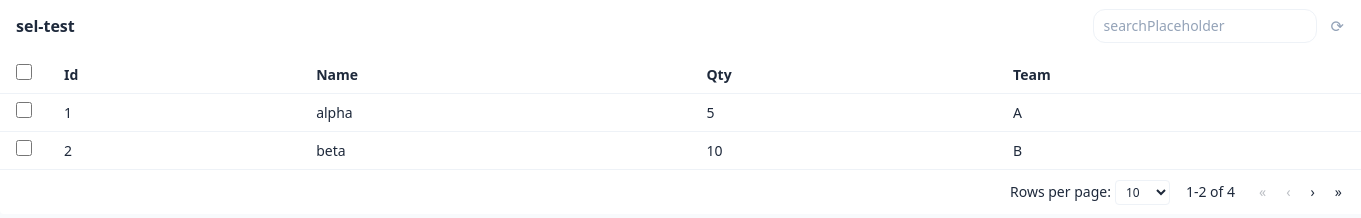
Test: Table › clears the selection when a fresh remote page loads
Expected: the text "alpha" is shown, [300, 94, 690, 132]
Click the checkbox named "Select row 1" at (24, 110), box [16, 102, 32, 118]
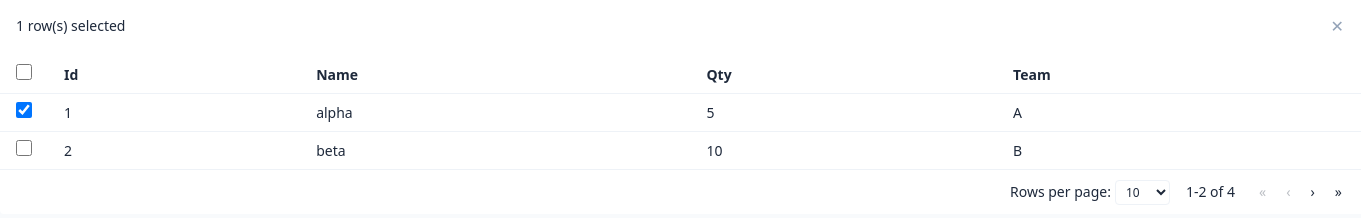
Expected: the text "1 row(s) selected" is shown, [16, 16, 126, 36]
Click the button "Name" at (339, 74), box [316, 64, 362, 84]
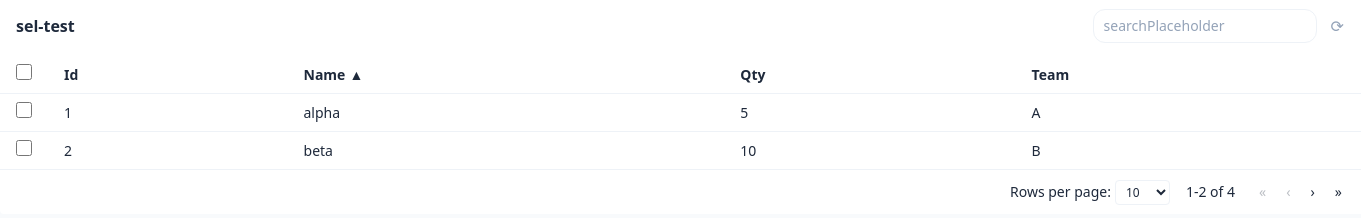
Expected: the text "1 row(s) selected" is gone
